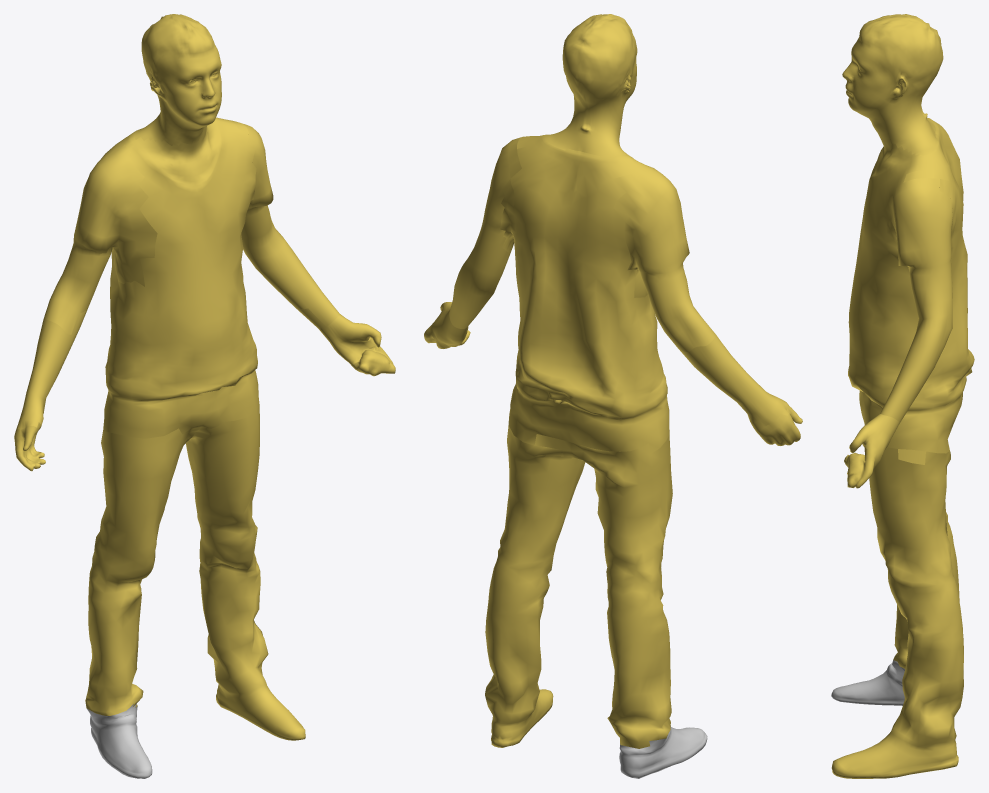
The model's file is Humano.obj.
3 views of the same model, side by side, from view 1: azimuth 30°, elevation 25°; view 2: azimuth 150°, elevation 25°; view 3: azimuth 270°, elevation 25° (orthographic).
Visible parts, largest first — view 1: Torso, Pierna_izq, Pierna_Der, Mano_Derecha, Mano_Izquierda, Cabeza, Object001; view 2: Torso, Pierna_Der, Pierna_izq, Mano_Derecha, Cabeza, Mano_Izquierda, Object001; view 3: Pierna_izq, Torso, Mano_Izquierda, Cabeza, Object001, Pierna_Der.
Boxes of the visible parts, left/top/right/bottom form: Torso: left=103, top=117, right=259, bottom=438; Pierna_izq: left=186, top=405, right=305, bottom=740; Pierna_Der: left=85, top=428, right=199, bottom=715; Mano_Derecha: left=14, top=143, right=157, bottom=471; Mano_Izquierda: left=227, top=119, right=395, bottom=376; Cabeza: left=134, top=14, right=221, bottom=145; Object001: left=87, top=703, right=152, bottom=778; Torso: left=508, top=134, right=669, bottom=454; Pierna_Der: left=534, top=434, right=672, bottom=748; Pierna_izq: left=485, top=421, right=585, bottom=747; Mano_Derecha: left=613, top=161, right=802, bottom=445; Cabeza: left=542, top=14, right=637, bottom=156; Mano_Izquierda: left=424, top=136, right=530, bottom=348; Object001: left=619, top=725, right=707, bottom=778; Pierna_izq: left=831, top=440, right=963, bottom=778; Torso: left=848, top=117, right=974, bottom=464; Mano_Izquierda: left=844, top=169, right=956, bottom=488; Cabeza: left=842, top=14, right=943, bottom=156; Object001: left=831, top=660, right=904, bottom=705; Pierna_Der: left=893, top=512, right=959, bottom=668.
Size of the model in its own units: 35.16 by 64.75 by 11.75.
